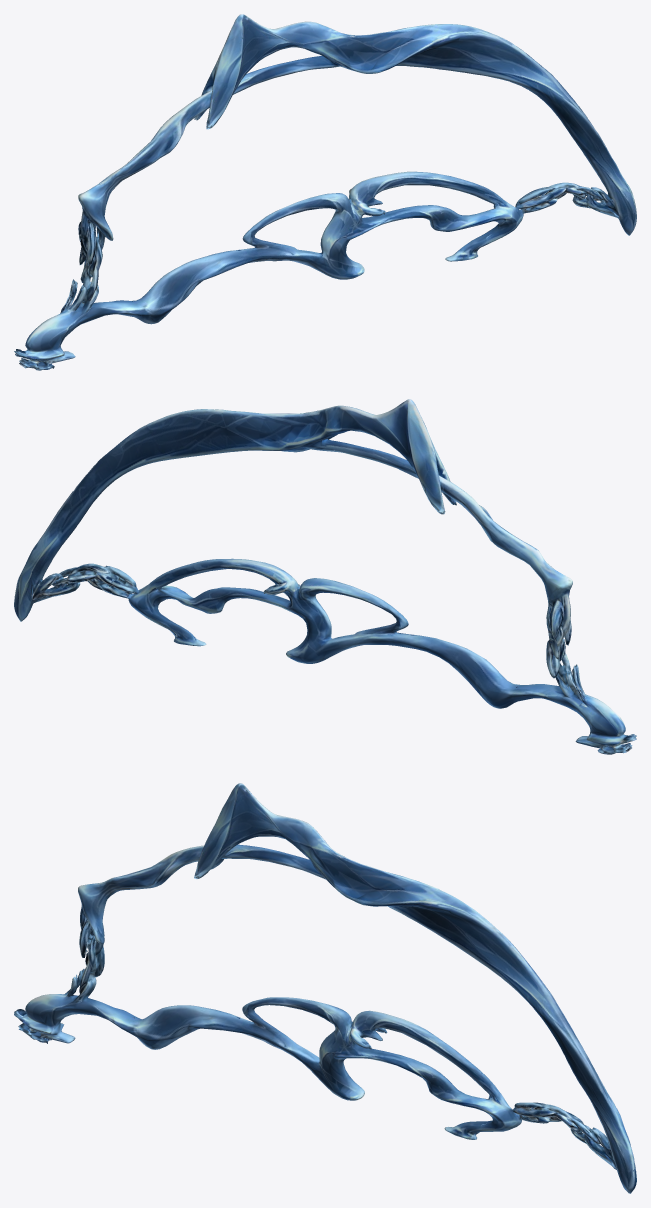
The model's file is accumulate-intro.glb.
3 renders of one model, top to bottom at view 1: azimuth 30°, elevation 25°; view 2: azimuth 150°, elevation 25°; view 3: azimuth 330°, elevation 25°, orthographic.
Parts seen in each view (by area): view 1: tripo_node_bc398151-f750-4d5d-b8b3-8458f12cfcaa; view 2: tripo_node_bc398151-f750-4d5d-b8b3-8458f12cfcaa; view 3: tripo_node_bc398151-f750-4d5d-b8b3-8458f12cfcaa.
Boxes of the visible parts, <box> form: tripo_node_bc398151-f750-4d5d-b8b3-8458f12cfcaa: <box>14,14,636,370</box>; tripo_node_bc398151-f750-4d5d-b8b3-8458f12cfcaa: <box>14,399,636,754</box>; tripo_node_bc398151-f750-4d5d-b8b3-8458f12cfcaa: <box>14,783,636,1193</box>.
Size of the model in its own units: 0.9825 by 0.478 by 0.0575.
1 material, 1 textured.
